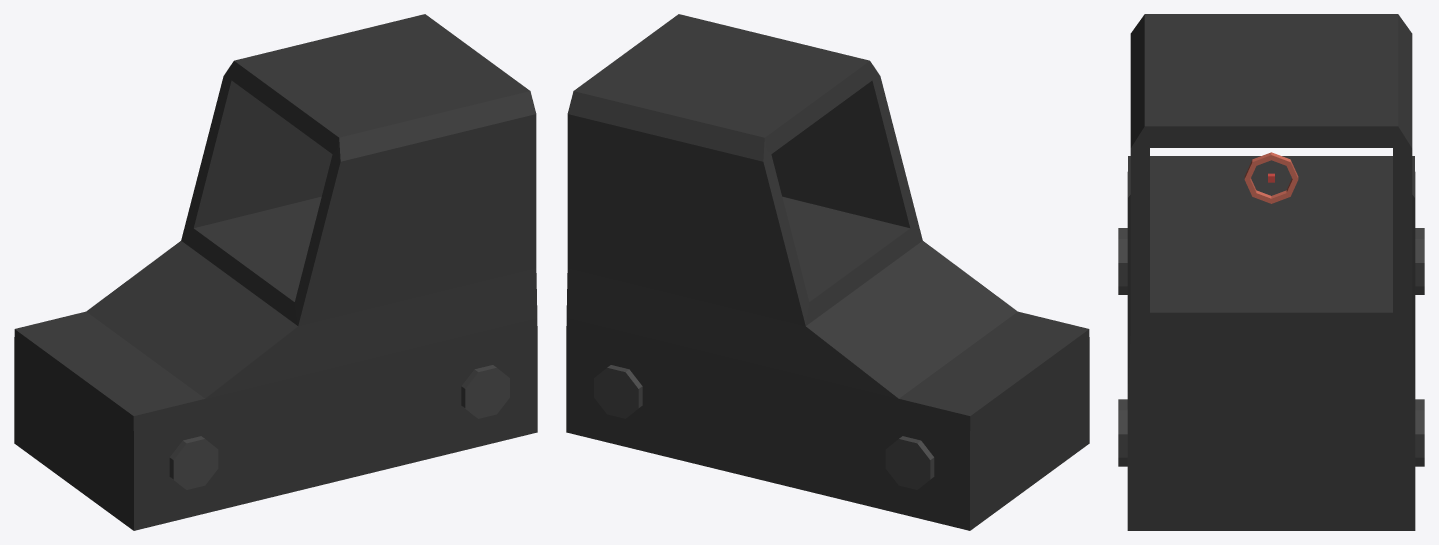
Rendered from Optic_02.fbx.
3 views of the same model, side by side, from view 1: azimuth 30°, elevation 25°; view 2: azimuth 150°, elevation 25°; view 3: azimuth 270°, elevation 25° (orthographic). The views are drawn at different scales.
Parts seen in each view (by area): view 1: Optic_02; view 2: Optic_02; view 3: Optic_02.
Boxes of the visible parts, <box> form: Optic_02: <box>14,14,537,530</box>; Optic_02: <box>566,14,1089,530</box>; Optic_02: <box>1118,14,1424,530</box>.
Size of the model in its own units: 0.0522 by 0.0415 by 0.0285.
